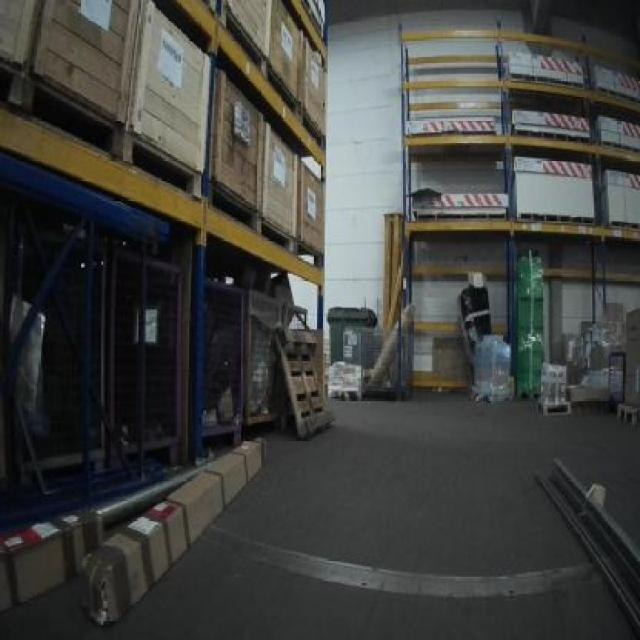ground: (0, 390, 638, 638)
pallet: (0, 51, 207, 206), (205, 171, 329, 277), (34, 434, 185, 494), (273, 324, 337, 445), (221, 0, 268, 81), (262, 59, 306, 126), (503, 70, 592, 91), (242, 404, 291, 439), (513, 126, 594, 145), (527, 392, 577, 420), (198, 426, 243, 457), (409, 207, 508, 221), (513, 211, 598, 226), (295, 0, 324, 43), (300, 116, 330, 152), (598, 136, 638, 157), (594, 84, 638, 103), (613, 403, 638, 422), (605, 217, 638, 231), (197, 0, 221, 16)
